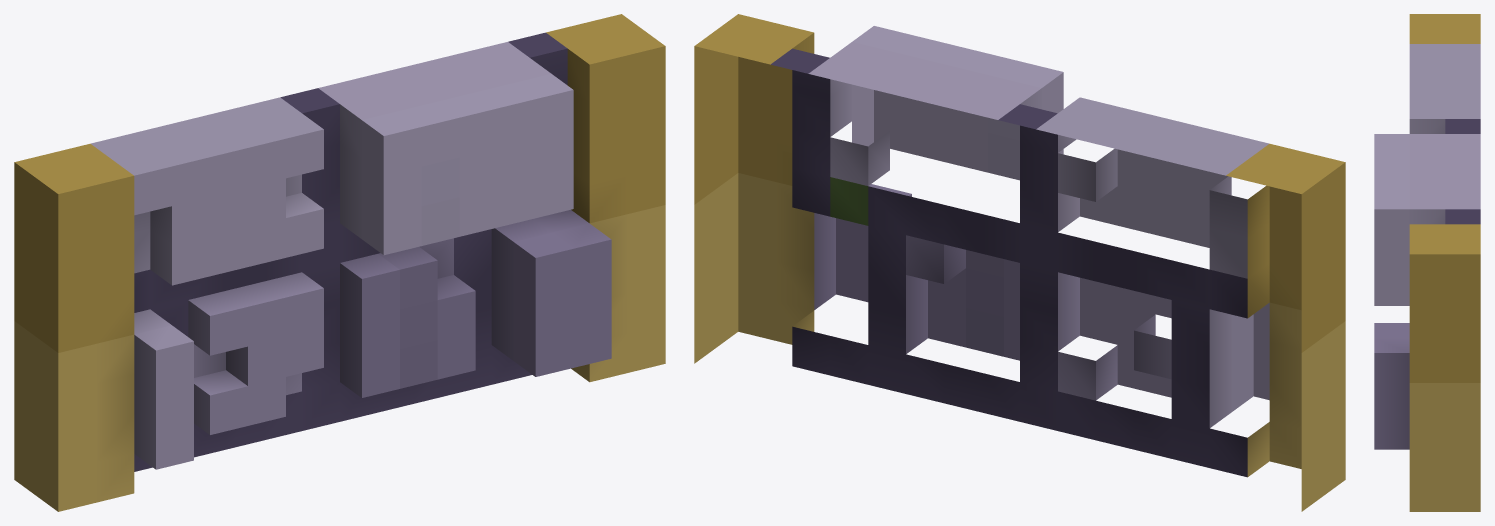
The model's file is wall_plain_1.glb.
The picture shows the model from 3 angles, left to right: view 1: azimuth 30°, elevation 25°; view 2: azimuth 150°, elevation 25°; view 3: azimuth 270°, elevation 25°; orthographic projection. The views are drawn at different scales.
Visible parts, largest first — view 1: wall_plain_1; view 2: wall_plain_1; view 3: wall_plain_1.
Part boxes in pixels (x1,y1,x2,y2): wall_plain_1: (14,14,665,511); wall_plain_1: (694,14,1345,511); wall_plain_1: (1374,14,1480,511).
Size of the model in its own units: 1 by 0.5 by 0.1875.
